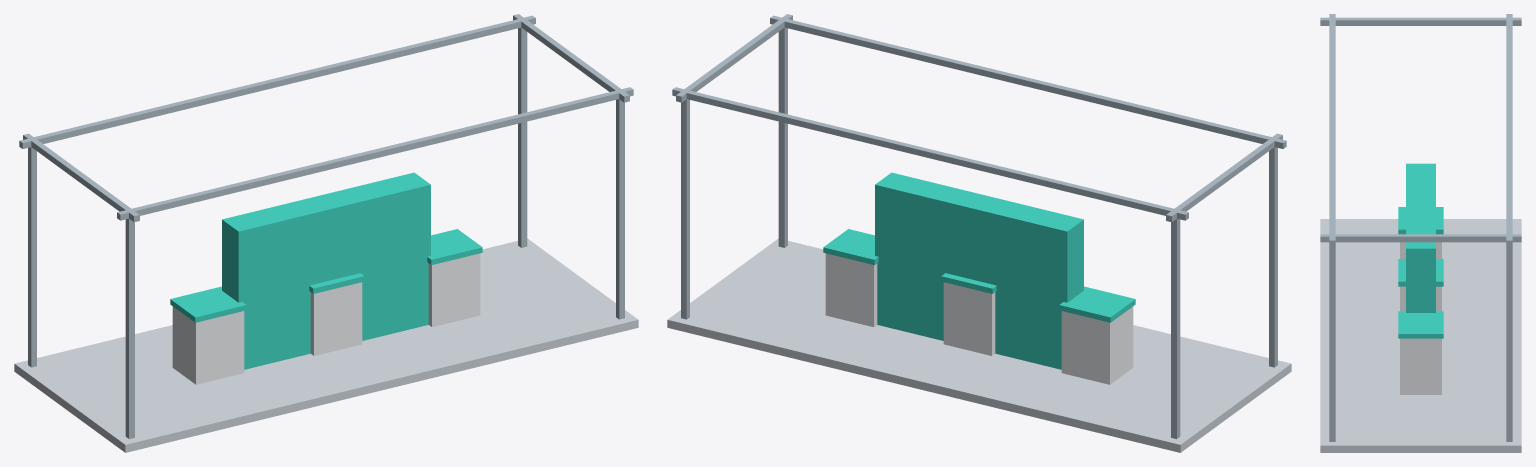
3 renders of one model, left to right at view 1: azimuth 30°, elevation 25°; view 2: azimuth 150°, elevation 25°; view 3: azimuth 270°, elevation 25°, orthographic. The views are drawn at different scales.
Parts seen in each view (by area): view 1: Exhibition Booth Concept; view 2: Exhibition Booth Concept; view 3: Exhibition Booth Concept.
Part boxes in pixels (x1,y1,x2,y2): Exhibition Booth Concept: (14, 14, 638, 452); Exhibition Booth Concept: (667, 14, 1291, 452); Exhibition Booth Concept: (1320, 14, 1521, 452).
Bounding box in the file's own units: 8 × 3.49 × 3.
